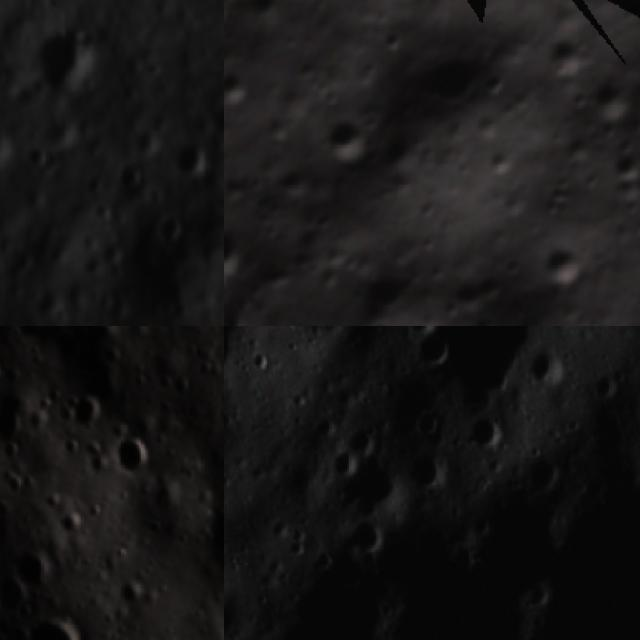crater: (378, 2, 518, 142), (535, 471, 640, 638), (30, 15, 110, 106), (310, 101, 387, 176), (530, 223, 602, 294), (336, 447, 406, 518), (352, 254, 421, 323), (166, 134, 220, 188), (102, 428, 153, 481), (9, 540, 58, 592), (0, 393, 36, 456), (64, 391, 111, 439), (224, 214, 256, 283), (338, 512, 387, 557), (408, 328, 458, 372), (224, 57, 261, 116), (33, 110, 78, 158), (151, 203, 194, 252), (525, 343, 566, 389), (526, 451, 566, 496), (409, 445, 448, 489), (22, 614, 87, 640), (464, 412, 504, 452), (0, 569, 32, 617), (112, 158, 152, 196), (115, 578, 152, 614), (408, 407, 444, 439), (344, 421, 376, 456), (0, 116, 14, 176), (0, 509, 12, 557), (401, 326, 441, 338)
